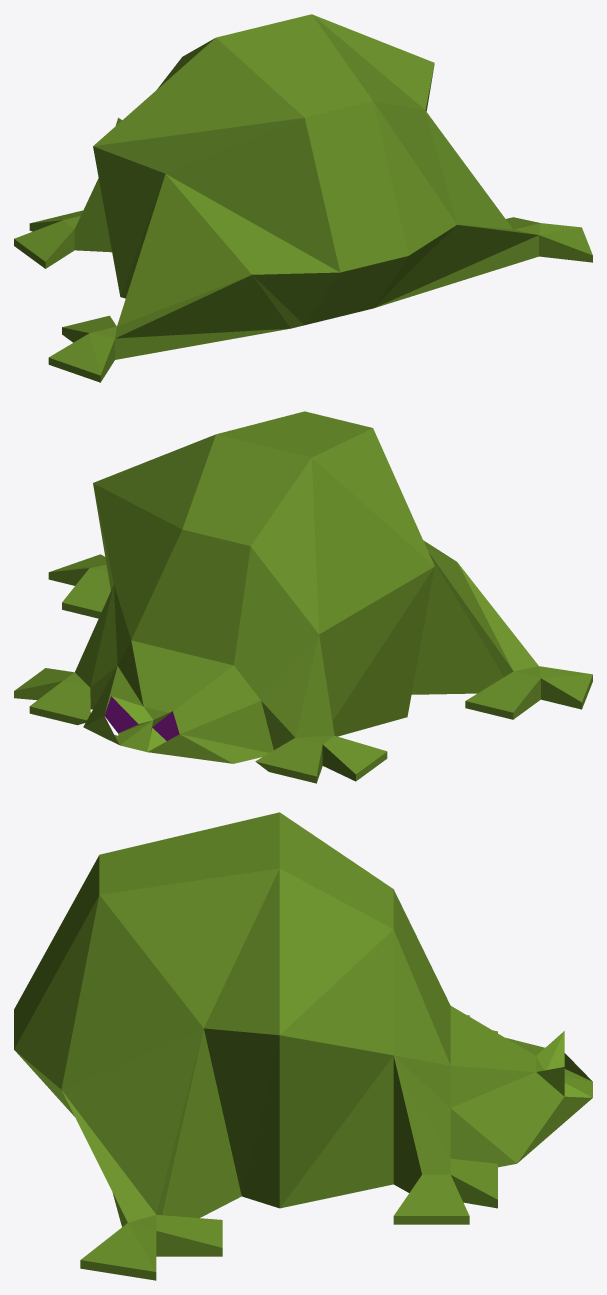
The model's file is npc_world_swamp_toad_0.obj.
3 views of the same model, one above another, from view 1: azimuth 30°, elevation 25°; view 2: azimuth 150°, elevation 25°; view 3: azimuth 270°, elevation 25° (orthographic). The views are drawn at different scales.
Size of the model in its own units: 0.6094 by 0.2578 by 0.4766.
